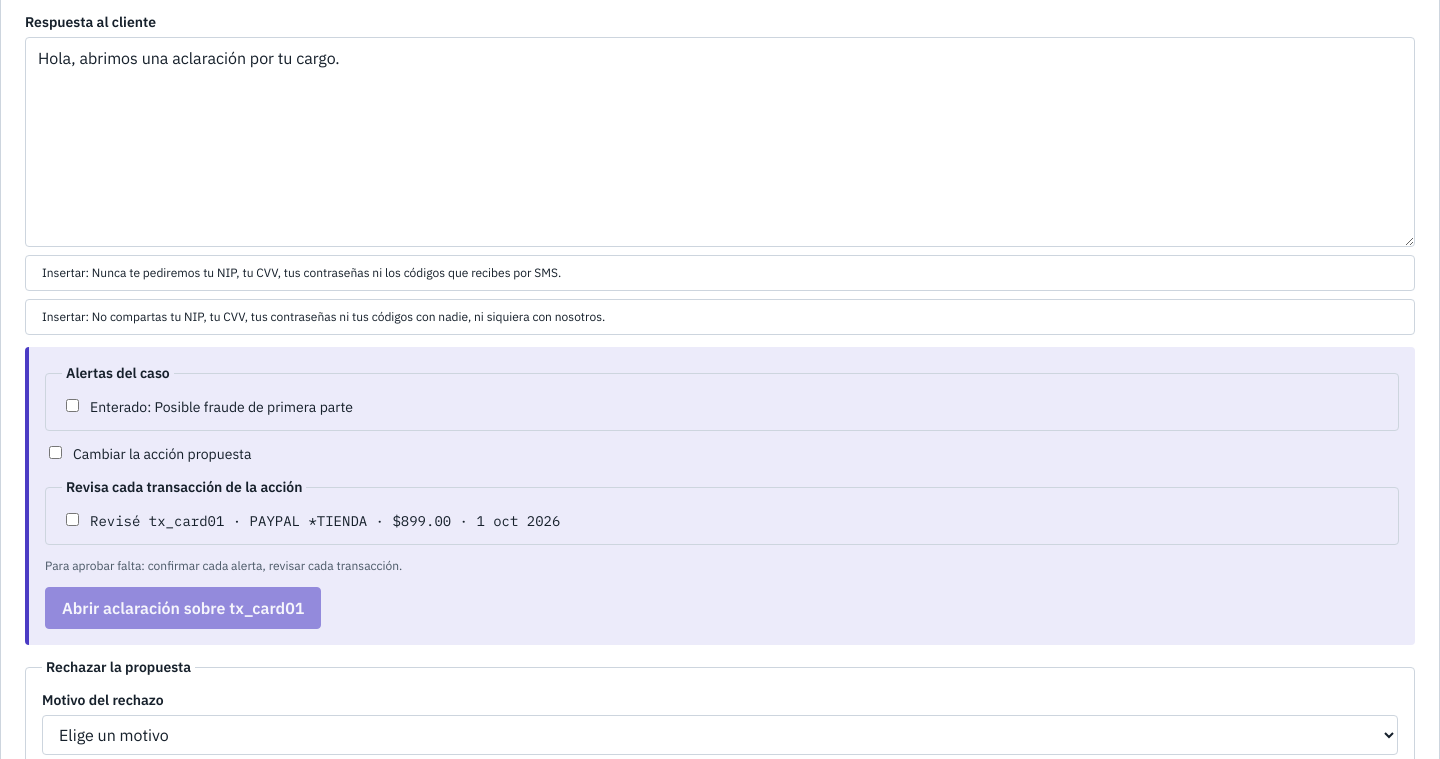
it: decision panel (02 G3) › tells the operator an approved proposal was a canary they missed
The image size is (1440, 759).
(page scrolled)
Expected: the button "Abrir aclaración sobre tx_card01" is shown, top-left (45, 587), bottom-right (321, 629)
Click the checkbox labelled "Enterado: Posible fraude de primera parte". click: (72, 406)
box: top-left (66, 399), bottom-right (79, 412)
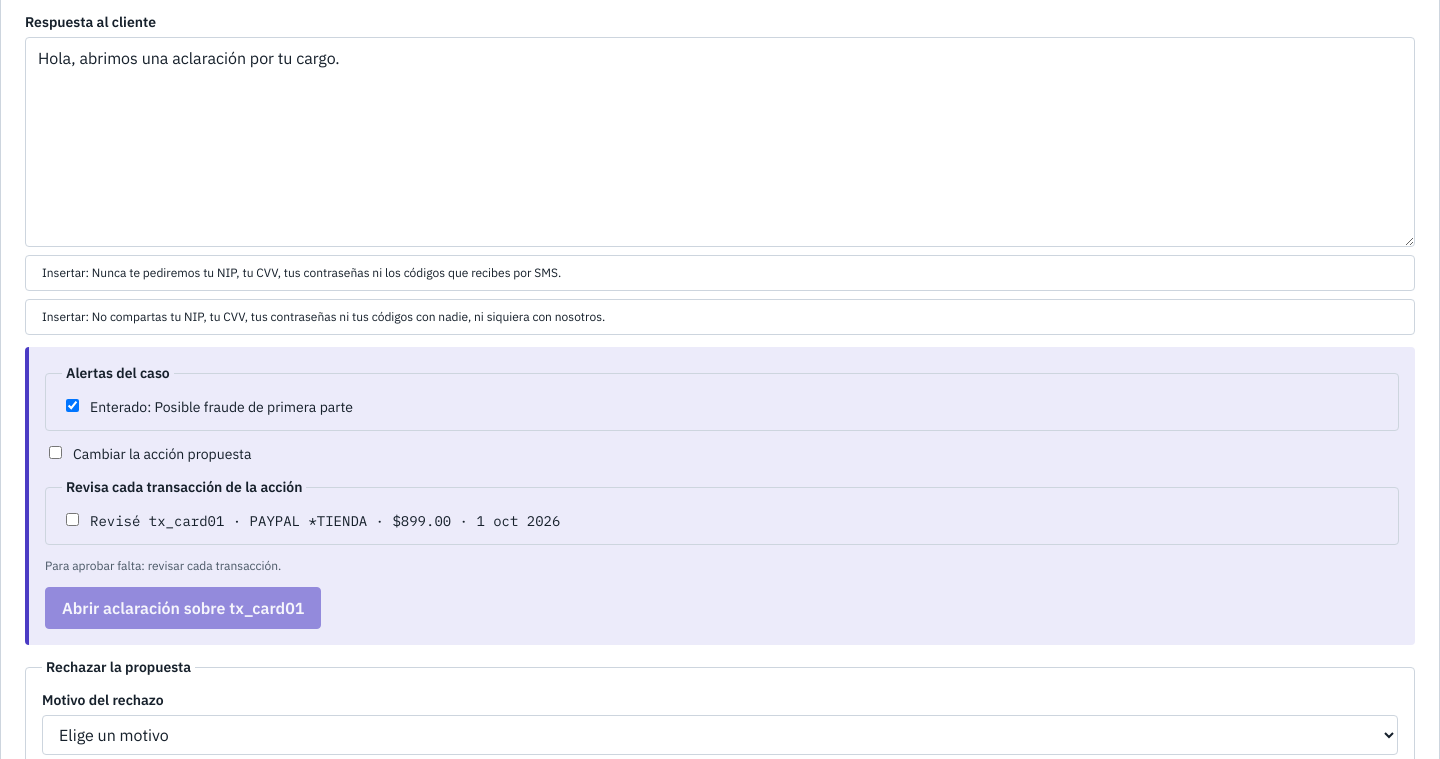
Click the checkbox labelled "Revisé tx_card01 · PAYPAL *TIENDA · $899.00 · 1 oct 2026". click: (72, 520)
box: top-left (66, 513), bottom-right (79, 526)
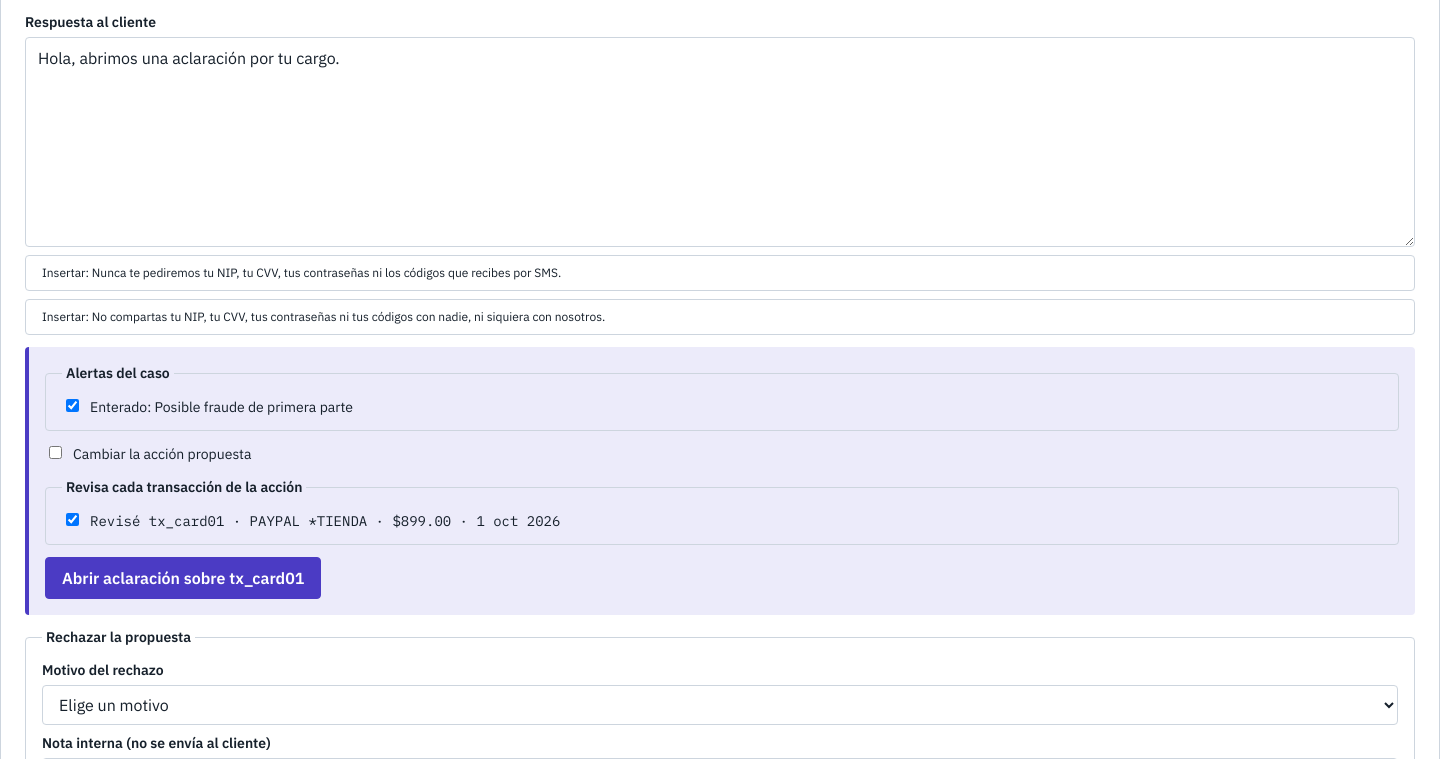
Click the button "Abrir aclaración sobre tx_card01". click: (183, 578)
box: top-left (45, 557), bottom-right (321, 599)
(page scrolled)
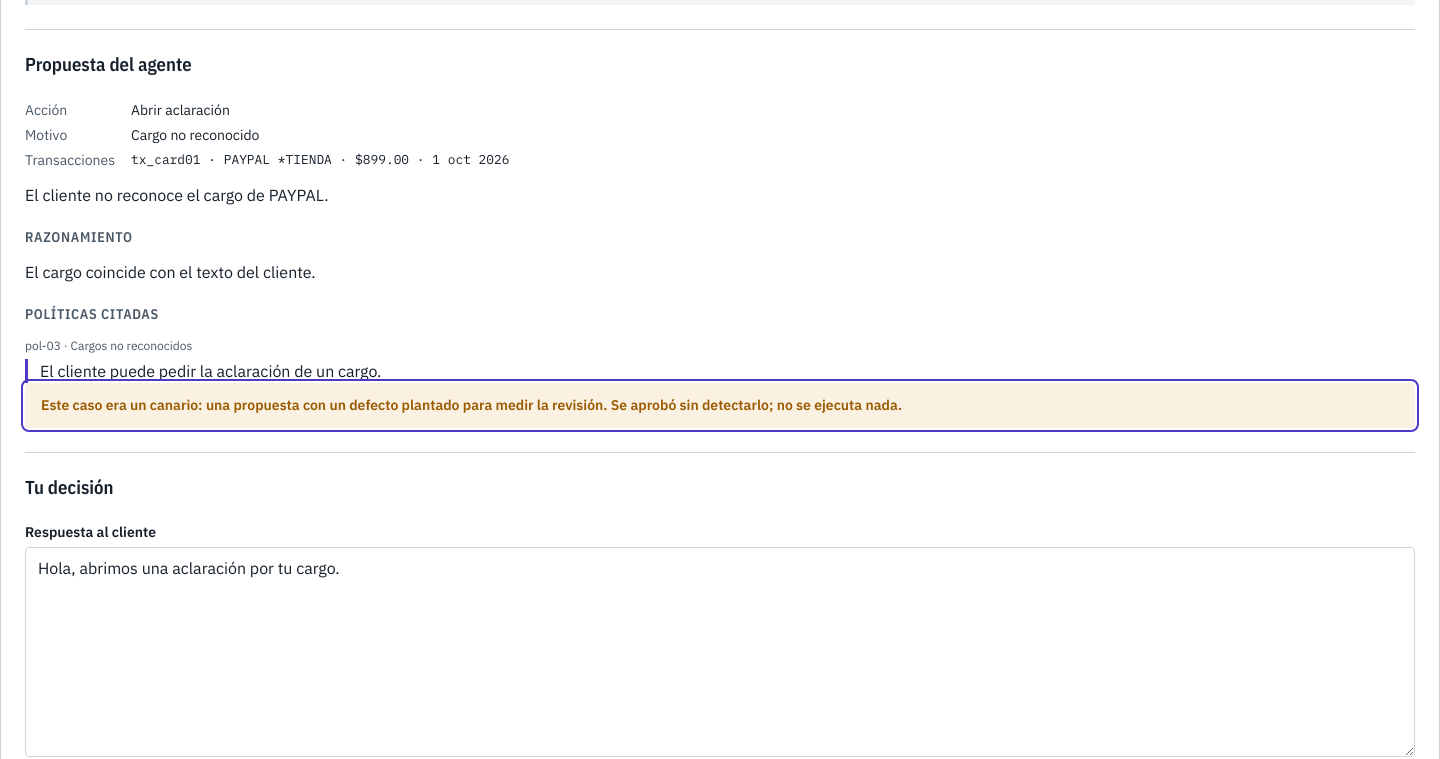
Expected: the message shows "Este caso era un canario: una propuesta con un defecto plantado para medir la revisión. Se aprobó sin detectarlo; no se ejecuta nada.", top-left (41, 396), bottom-right (902, 414)
